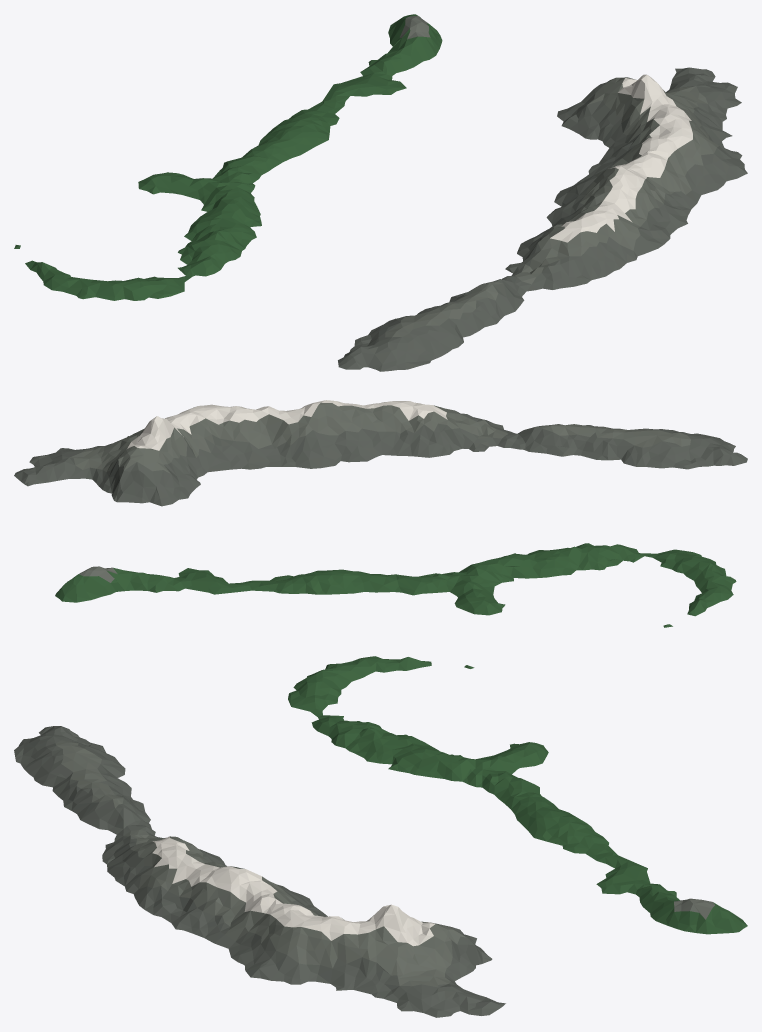
File: mountain_range.glb
3 views of the same model, one above another, from view 1: azimuth 30°, elevation 25°; view 2: azimuth 150°, elevation 25°; view 3: azimuth 270°, elevation 25° (orthographic). The views are drawn at different scales.
Parts seen in each view (by area): view 1: Mountains.001; view 2: Mountains.001; view 3: Mountains.001.
Part boxes in pixels (x1=…): Mountains.001: x1=14, y1=14, x2=747, y2=371; Mountains.001: x1=14, y1=400, x2=747, y2=627; Mountains.001: x1=14, y1=656, x2=747, y2=1017.
Size of the model in its own units: 132 by 9.79 by 114.
